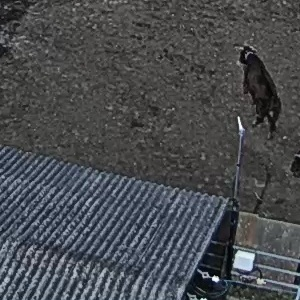cow: (228, 32, 283, 144)
